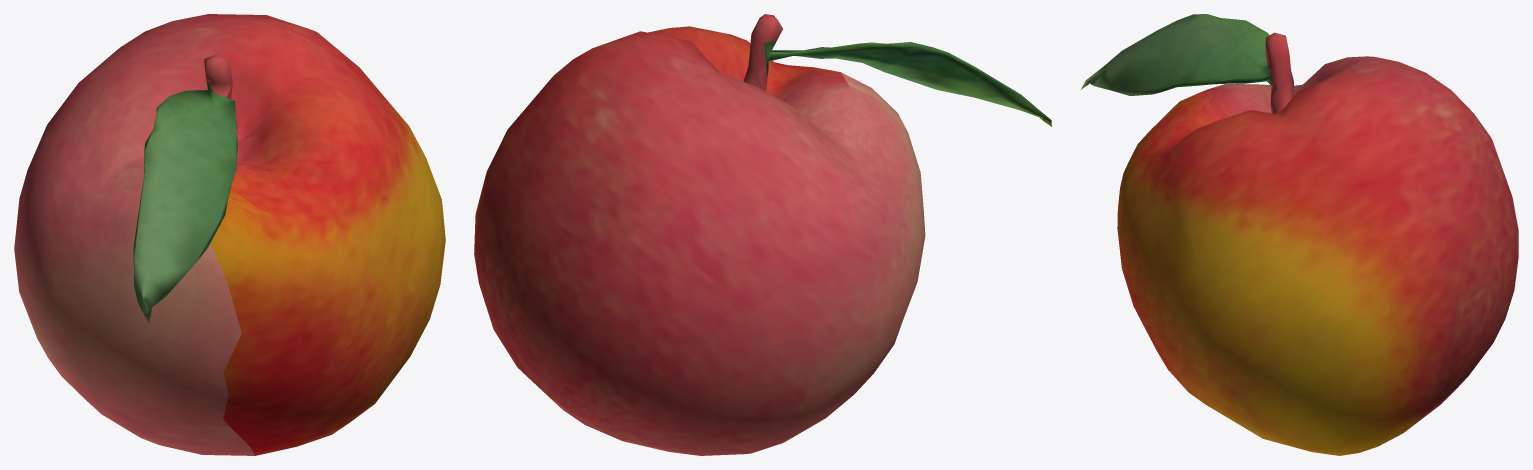
File: Peach.fbx
3 renders of one model, left to right at view 1: azimuth 30°, elevation 25°; view 2: azimuth 150°, elevation 25°; view 3: azimuth 270°, elevation 25°, orthographic. The views are drawn at different scales.
Parts seen in each view (by area): view 1: geometry_0.001; view 2: geometry_0.001; view 3: geometry_0.001.
Boxes of the visible parts, bbox=[...] form: geometry_0.001: bbox=[14, 14, 445, 455]; geometry_0.001: bbox=[474, 14, 1051, 455]; geometry_0.001: bbox=[1081, 14, 1518, 455].
Bounding box in the file's own units: 6.43 × 5.99 × 6.46.
